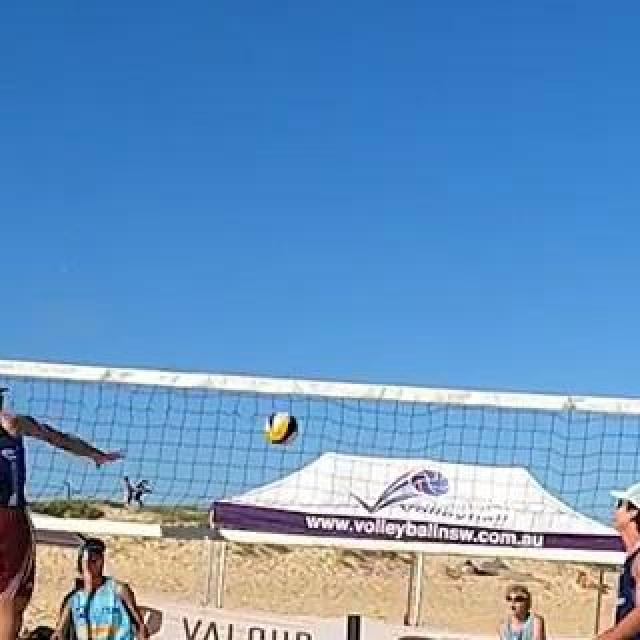volleyball: (267, 413, 299, 443)
